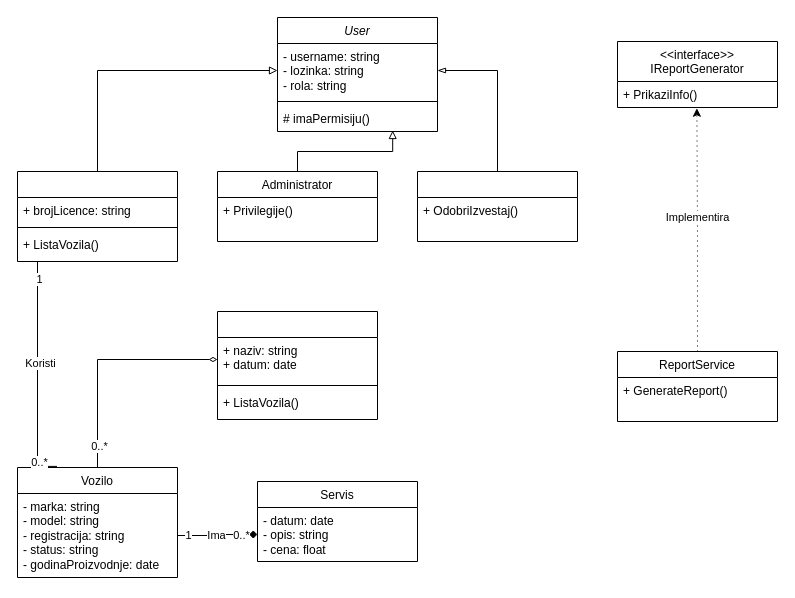
Image size: 795x598. Some labels were removed from this diagram. Each missing label, with the box of its shape:
Izvestaj: (216, 310, 378, 420)
Menadzer: (416, 170, 578, 242)
Vozac: (16, 170, 178, 262)
